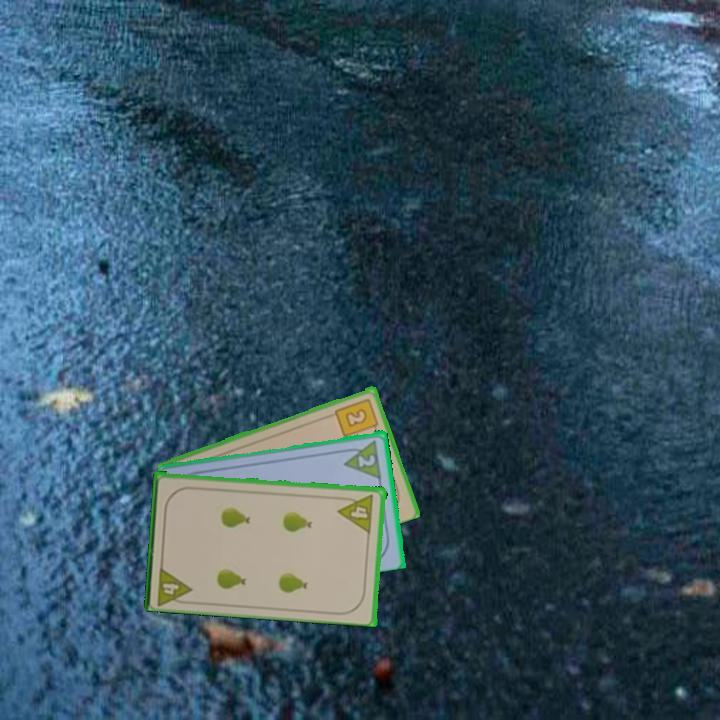2b: (332, 394, 381, 439)
2p: (339, 436, 384, 480)
4p: (153, 562, 195, 607), (336, 490, 377, 535)
